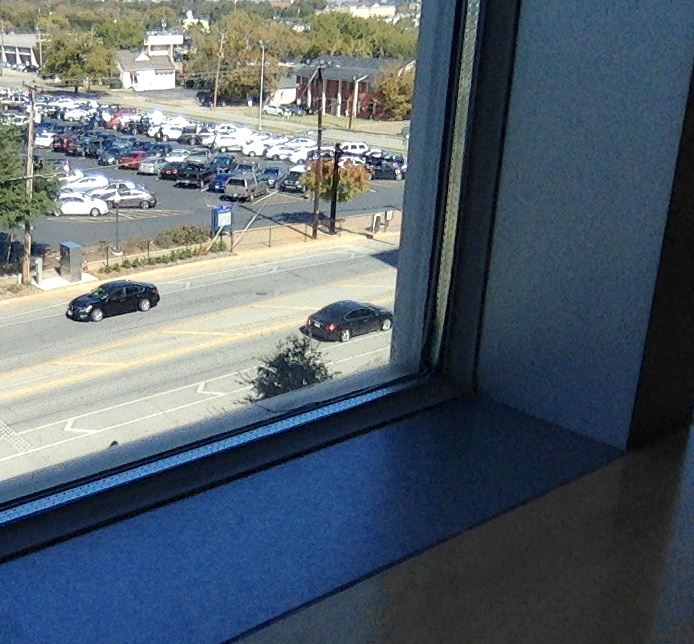car: (300, 300, 394, 344)
